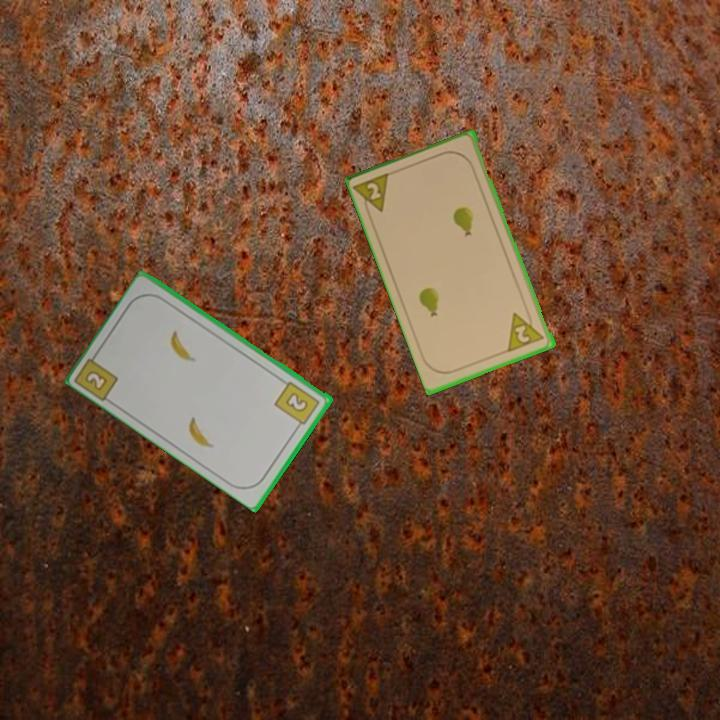2b: (271, 377, 323, 432), (81, 367, 110, 394)
2p: (352, 169, 395, 221), (505, 306, 547, 355)
